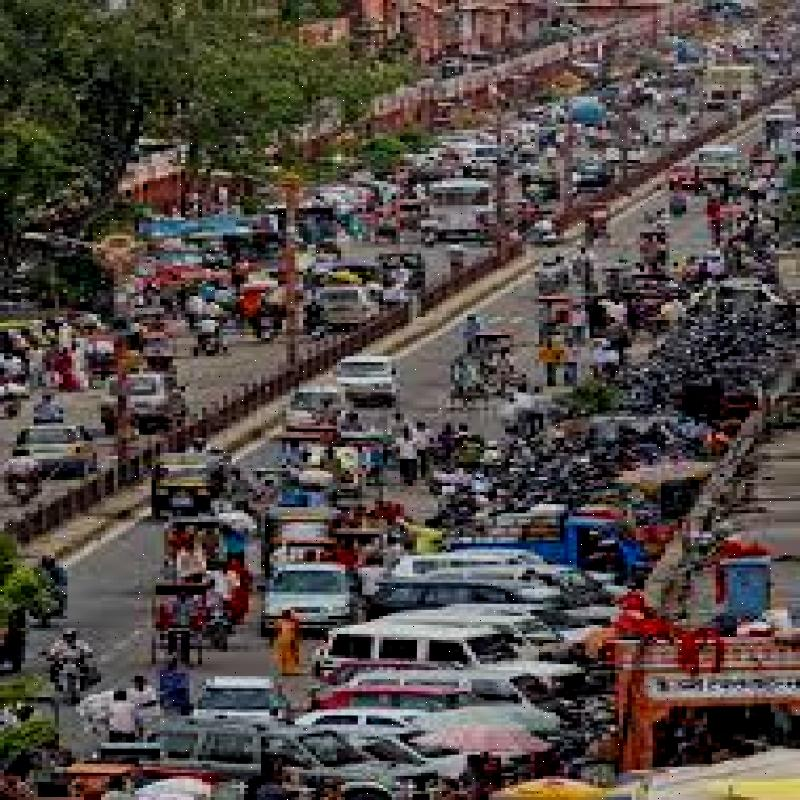car: (287, 612, 607, 702), (194, 673, 317, 740), (266, 556, 362, 636)
